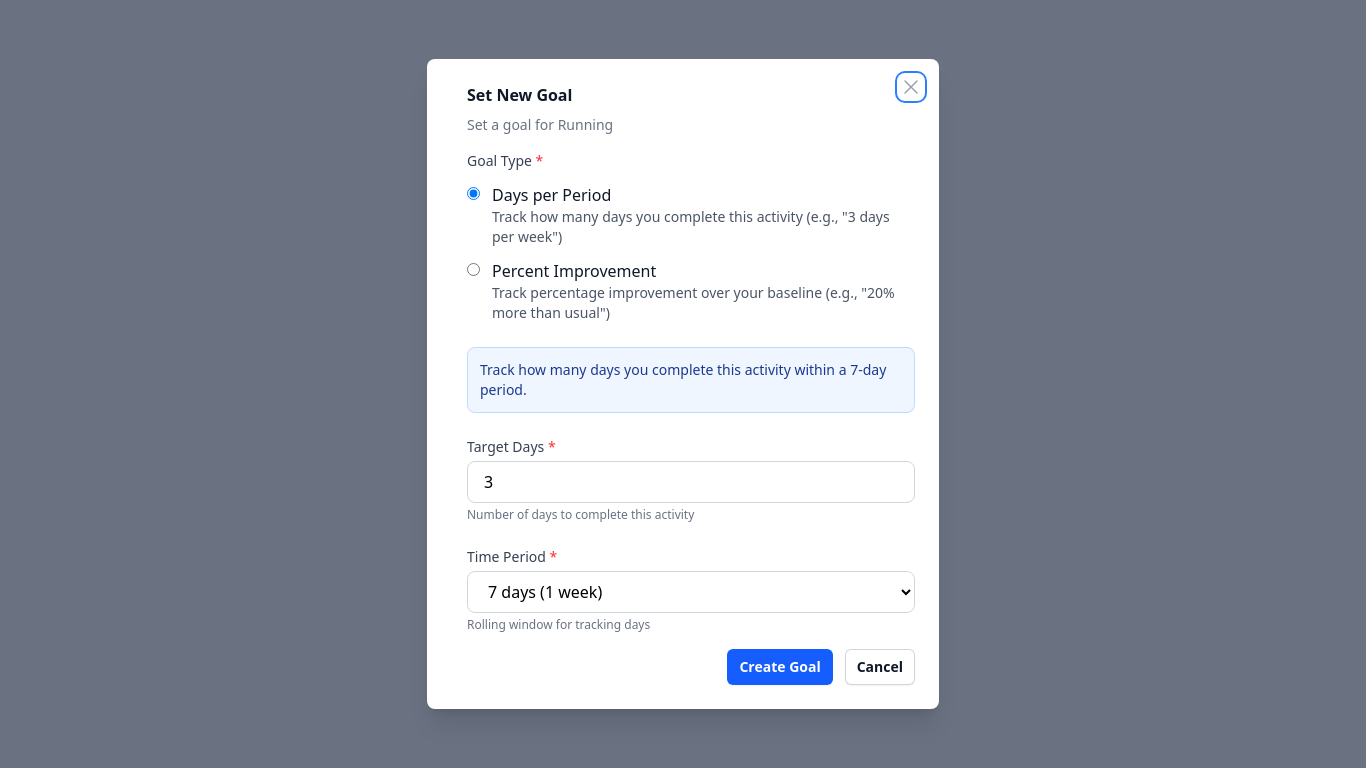
Test: GoalSettingModal › Target Value Input (Task 3.20) › should validate target value is positive
Replace the text in the number field labelled "Target Days *" with "0" at [691, 482], box [467, 461, 915, 503]
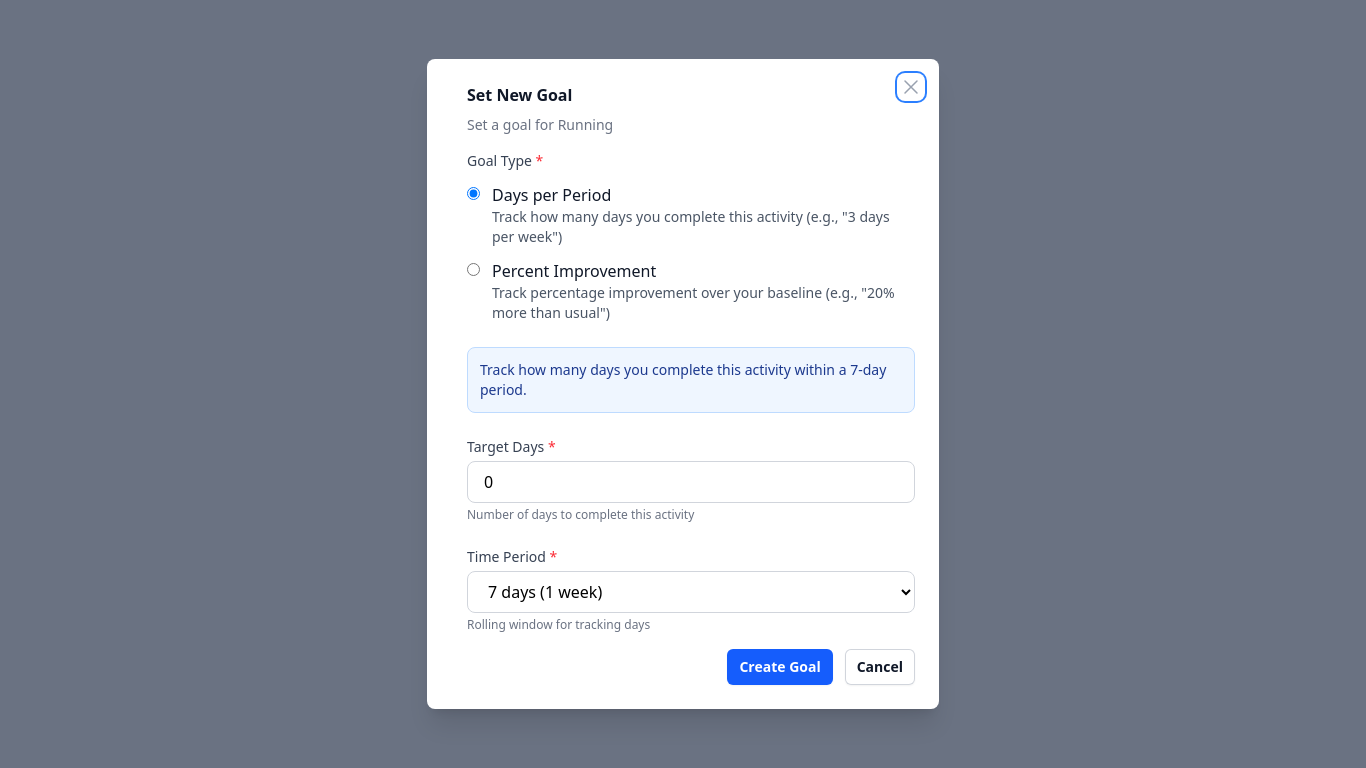
Click the button "Create Goal".
click(780, 667)  # box [727, 649, 833, 685]
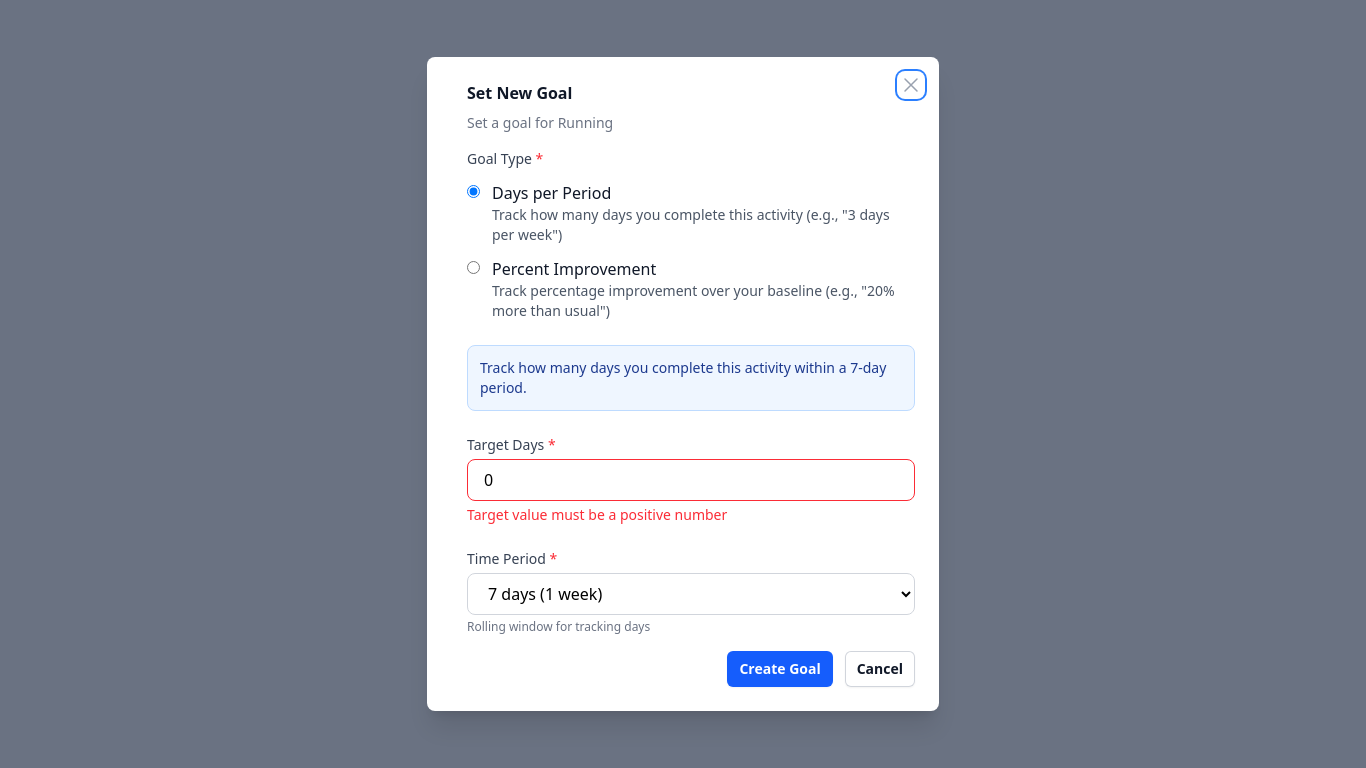
Result: the text "Target value must be a positive number" is shown at [467, 505, 727, 524]
